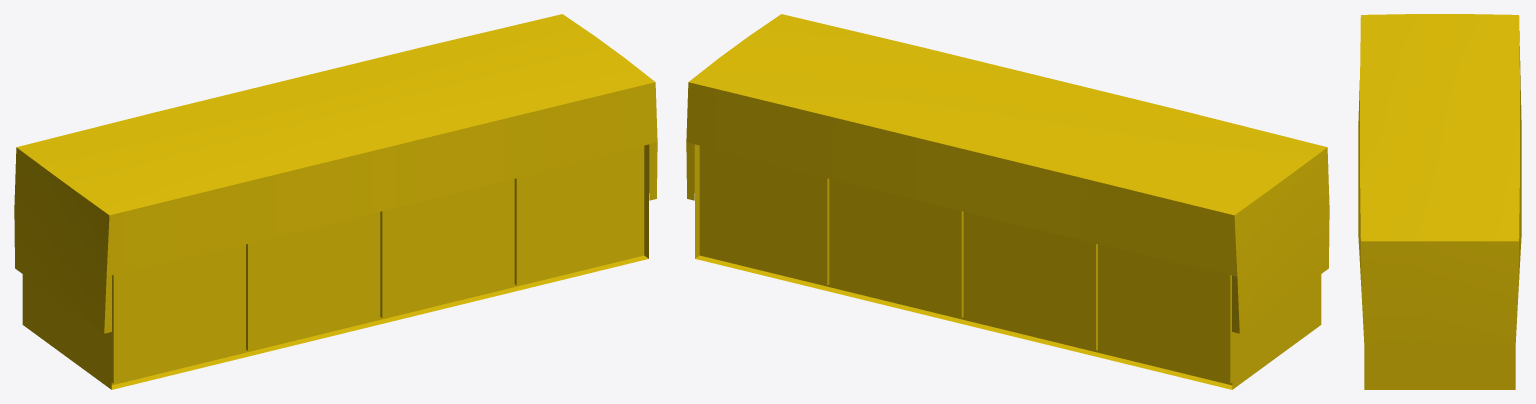
The model's file is Kitchen_Counter_1.FBX.
3 views of the same model, side by side, from view 1: azimuth 30°, elevation 25°; view 2: azimuth 150°, elevation 25°; view 3: azimuth 270°, elevation 25° (orthographic). The views are drawn at different scales.
Parts seen in each view (by area): view 1: Box007; view 2: Box007; view 3: Box007.
Part boxes in pixels (left/top/right/bottom): Box007: left=14, top=14, right=657, bottom=389; Box007: left=686, top=14, right=1329, bottom=389; Box007: left=1358, top=14, right=1521, bottom=389.
Size of the model in its own units: 4.41 by 1.37 by 1.33.
